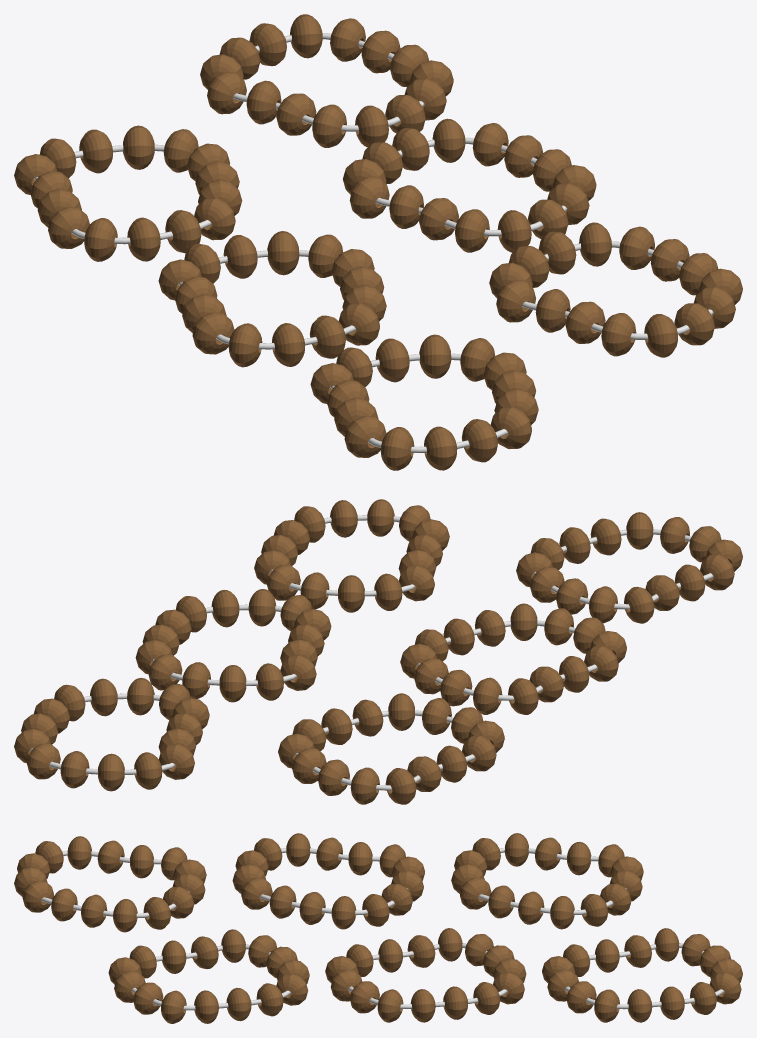
File: BraceletGroup.fbx
The picture shows the model from 3 angles, top to bottom: view 1: azimuth 30°, elevation 25°; view 2: azimuth 150°, elevation 25°; view 3: azimuth 270°, elevation 25°; orthographic projection. The views are drawn at different scales.
Visible parts, largest first — view 1: Bracelet5, Bracelet3, Bracelet1, Bracelet4, Bracelet6, Bracelet2; view 2: Bracelet4, Bracelet2, Bracelet6, Bracelet1, Bracelet3, Bracelet5; view 3: Bracelet5, Bracelet3, Bracelet1, Bracelet4, Bracelet6, Bracelet2.
Boxes of the visible parts, x1=… form: Bracelet5: x1=489, y1=222, x2=742, y2=357; Bracelet3: x1=343, y1=118, x2=596, y2=252; Bracelet1: x1=200, y1=14, x2=453, y2=147; Bracelet4: x1=158, y1=231, x2=386, y2=367; Bracelet6: x1=310, y1=334, x2=538, y2=470; Bracelet2: x1=14, y1=125, x2=242, y2=261; Bracelet4: x1=400, y1=603, x2=626, y2=714; Bracelet2: x1=278, y1=693, x2=504, y2=804; Bracelet6: x1=516, y1=512, x2=742, y2=623; Bracelet1: x1=14, y1=677, x2=209, y2=791; Bracelet3: x1=135, y1=589, x2=331, y2=702; Bracelet5: x1=254, y1=499, x2=449, y2=612; Bracelet5: x1=108, y1=929, x2=309, y2=1023; Bracelet3: x1=325, y1=928, x2=526, y2=1022; Bracelet1: x1=542, y1=928, x2=742, y2=1022; Bracelet4: x1=232, y1=833, x2=424, y2=929; Bracelet6: x1=14, y1=836, x2=206, y2=932; Bracelet2: x1=451, y1=833, x2=643, y2=929.
Bounding box in the file's own units: 13.75 × 1.14 × 24.7.
